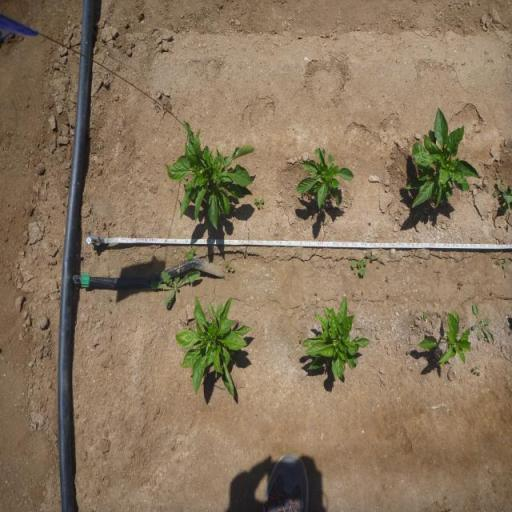plant: (165, 118, 254, 232), (173, 294, 254, 400), (402, 106, 480, 212), (302, 298, 372, 382), (294, 144, 356, 214), (417, 306, 473, 371)
weed: (150, 272, 200, 306), (471, 302, 496, 342), (497, 177, 512, 214), (350, 260, 368, 278), (254, 197, 266, 210), (186, 246, 196, 260), (225, 261, 235, 273), (502, 256, 509, 270), (456, 280, 465, 290), (492, 189, 500, 197), (422, 311, 428, 321), (471, 366, 478, 374), (494, 260, 502, 266), (370, 254, 376, 261), (406, 350, 412, 356), (385, 276, 390, 282), (365, 253, 370, 258), (386, 294, 390, 300), (377, 264, 380, 268)
